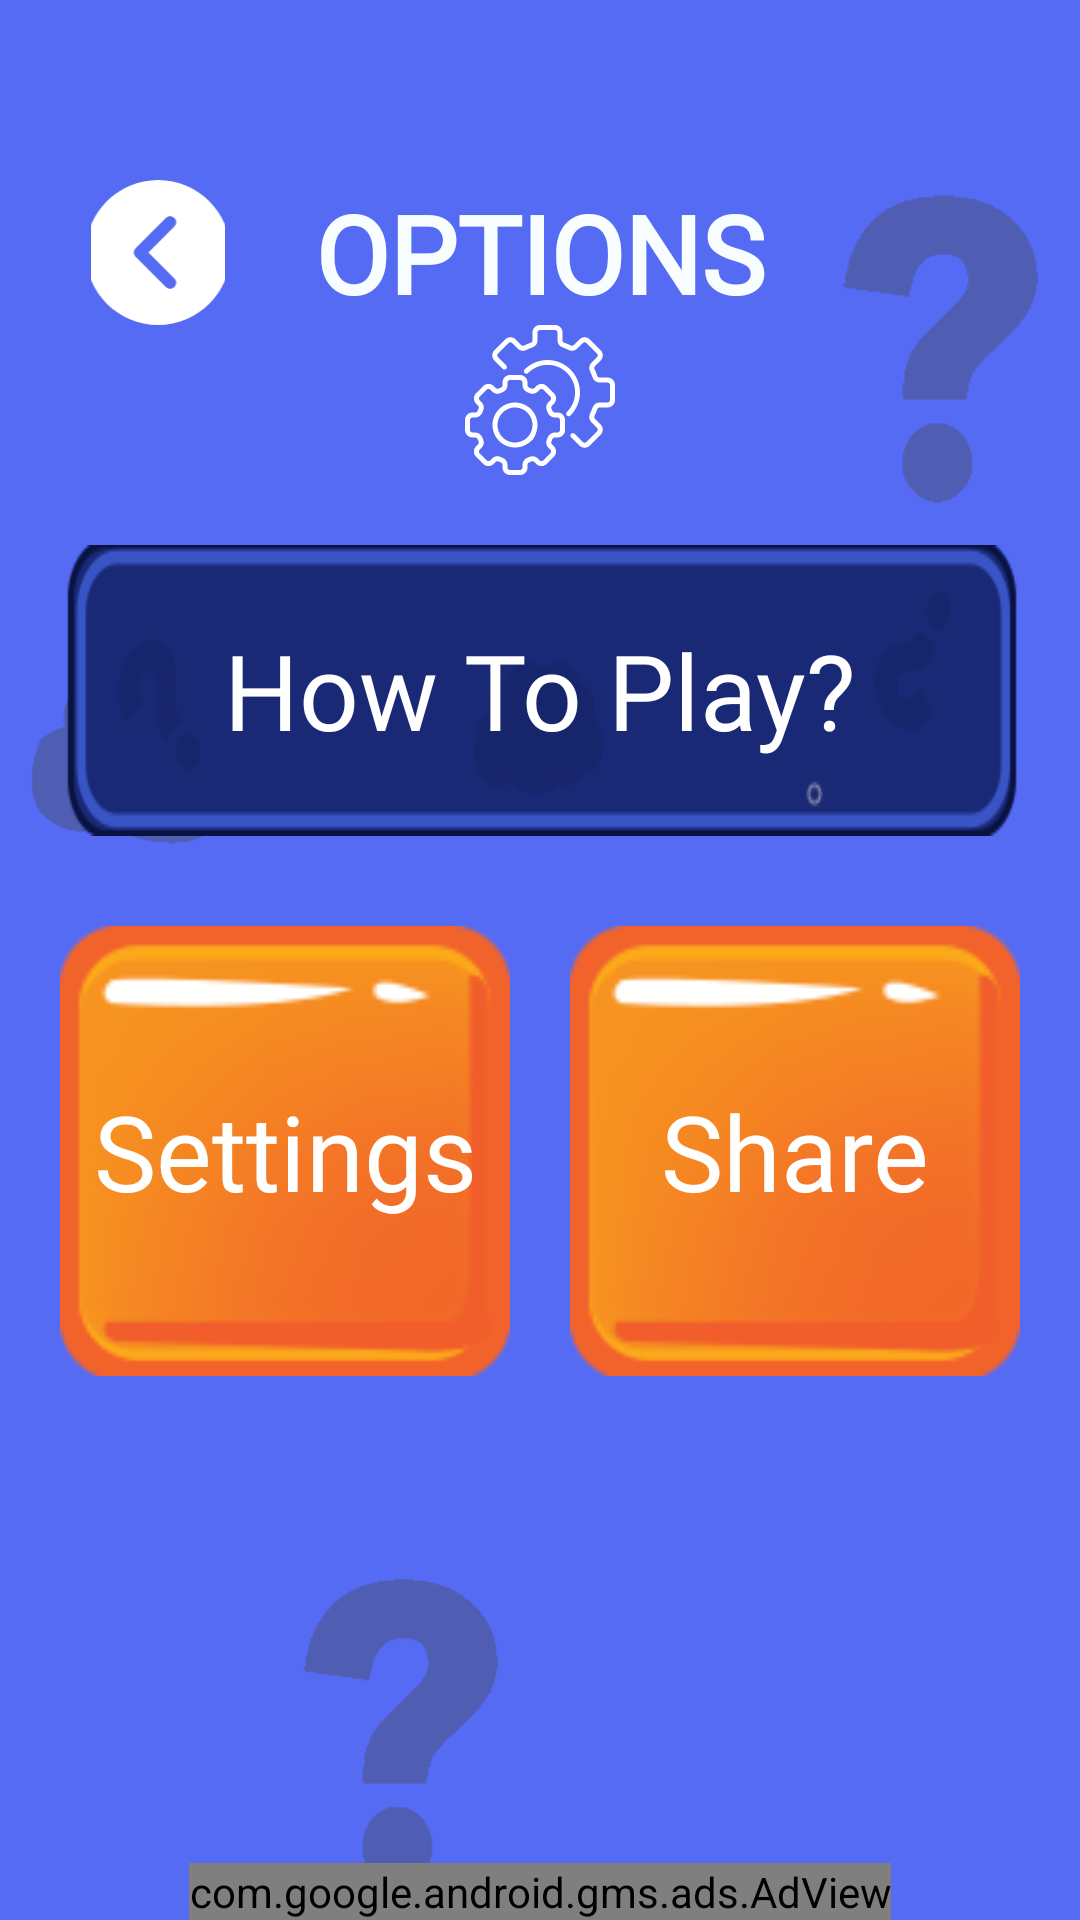

Where to tap for icons on this 1080px x 1920px app screen, as (x,y):
settings: (540,400)
